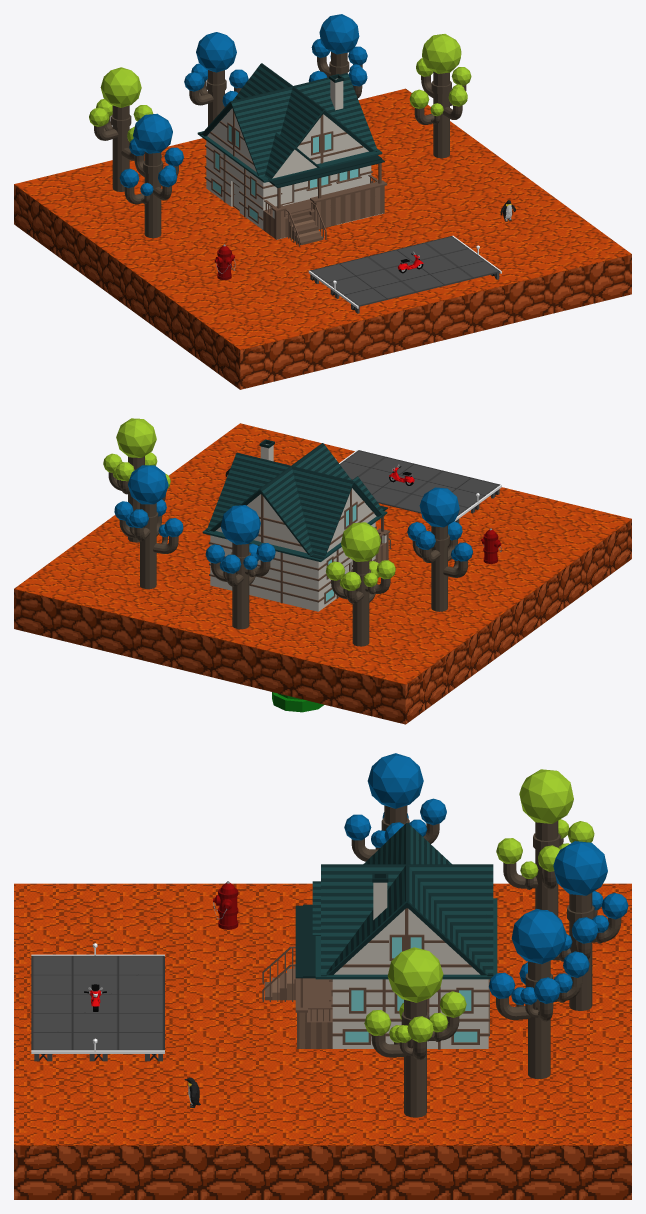
3 views of the same model, one above another, from view 1: azimuth 30°, elevation 25°; view 2: azimuth 150°, elevation 25°; view 3: azimuth 270°, elevation 25° (orthographic). The views are drawn at different scales.
Visible parts, largest first — view 1: Cube.001, Cube.793, OBJRANDOM_FIRE_HYDRANT; view 2: Cube.001, Cube.793, UNDERGROUND_PIPES, OBJRANDOM_FIRE_HYDRANT; view 3: Cube.001, Cube.793, OBJRANDOM_FIRE_HYDRANT.
Part boxes in pixels (x1,y1,x2,y2): Cube.001: (14, 14, 631, 389); Cube.793: (197, 63, 387, 246); OBJRANDOM_FIRE_HYDRANT: (214, 244, 235, 279); Cube.001: (14, 418, 631, 724); Cube.793: (202, 439, 390, 611); UNDERGROUND_PIPES: (272, 692, 324, 712); OBJRANDOM_FIRE_HYDRANT: (481, 528, 501, 563); Cube.001: (14, 753, 631, 1199); Cube.793: (262, 823, 497, 1049); OBJRANDOM_FIRE_HYDRANT: (213, 881, 238, 929).
Bounding box in the file's own units: 4000 × 2247 × 4000.
27 materials, 5 textured.
